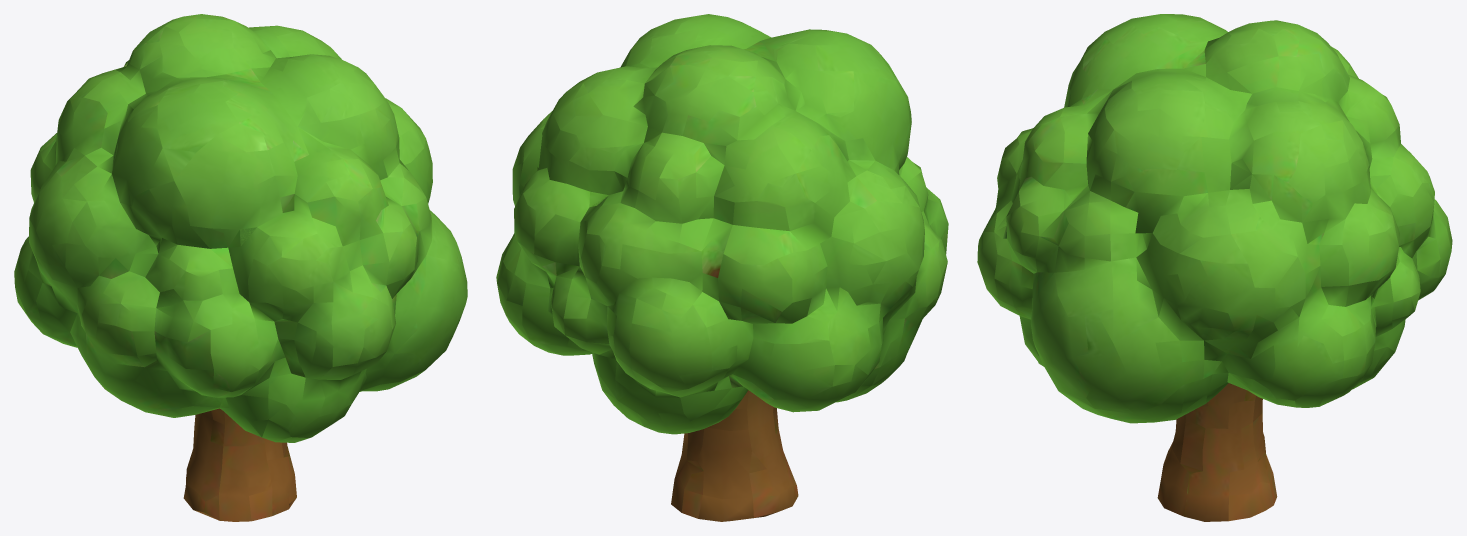
The model's file is campo_arbol2.glb.
3 views of the same model, side by side, from view 1: azimuth 30°, elevation 25°; view 2: azimuth 150°, elevation 25°; view 3: azimuth 270°, elevation 25° (orthographic). The views are drawn at different scales.
Parts seen in each view (by area): view 1: tripo_node_75a2a07c-5416-4c5b-b31e-aa45654838df; view 2: tripo_node_75a2a07c-5416-4c5b-b31e-aa45654838df; view 3: tripo_node_75a2a07c-5416-4c5b-b31e-aa45654838df.
Part boxes in pixels (<box>): tripo_node_75a2a07c-5416-4c5b-b31e-aa45654838df: <box>14,14,467,521</box>; tripo_node_75a2a07c-5416-4c5b-b31e-aa45654838df: <box>496,14,948,521</box>; tripo_node_75a2a07c-5416-4c5b-b31e-aa45654838df: <box>977,14,1452,521</box>.
Size of the model in its own units: 0.8489 by 0.9966 by 0.9158.
1 material, 1 textured.
